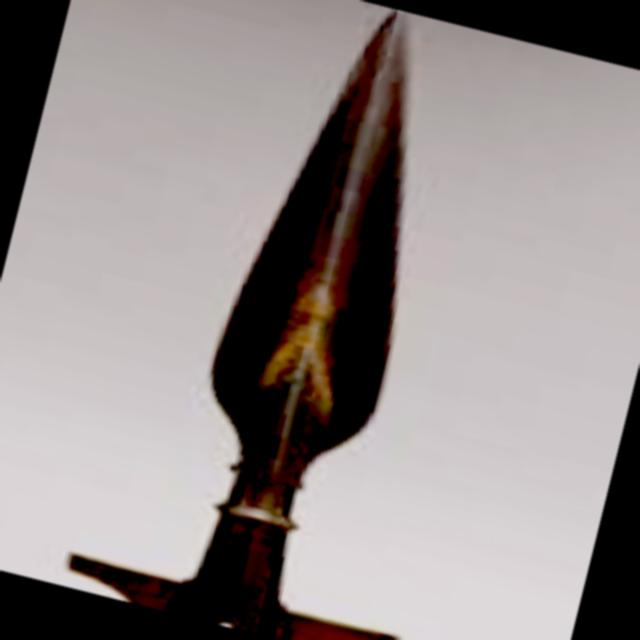spear: (26, 0, 607, 640)
